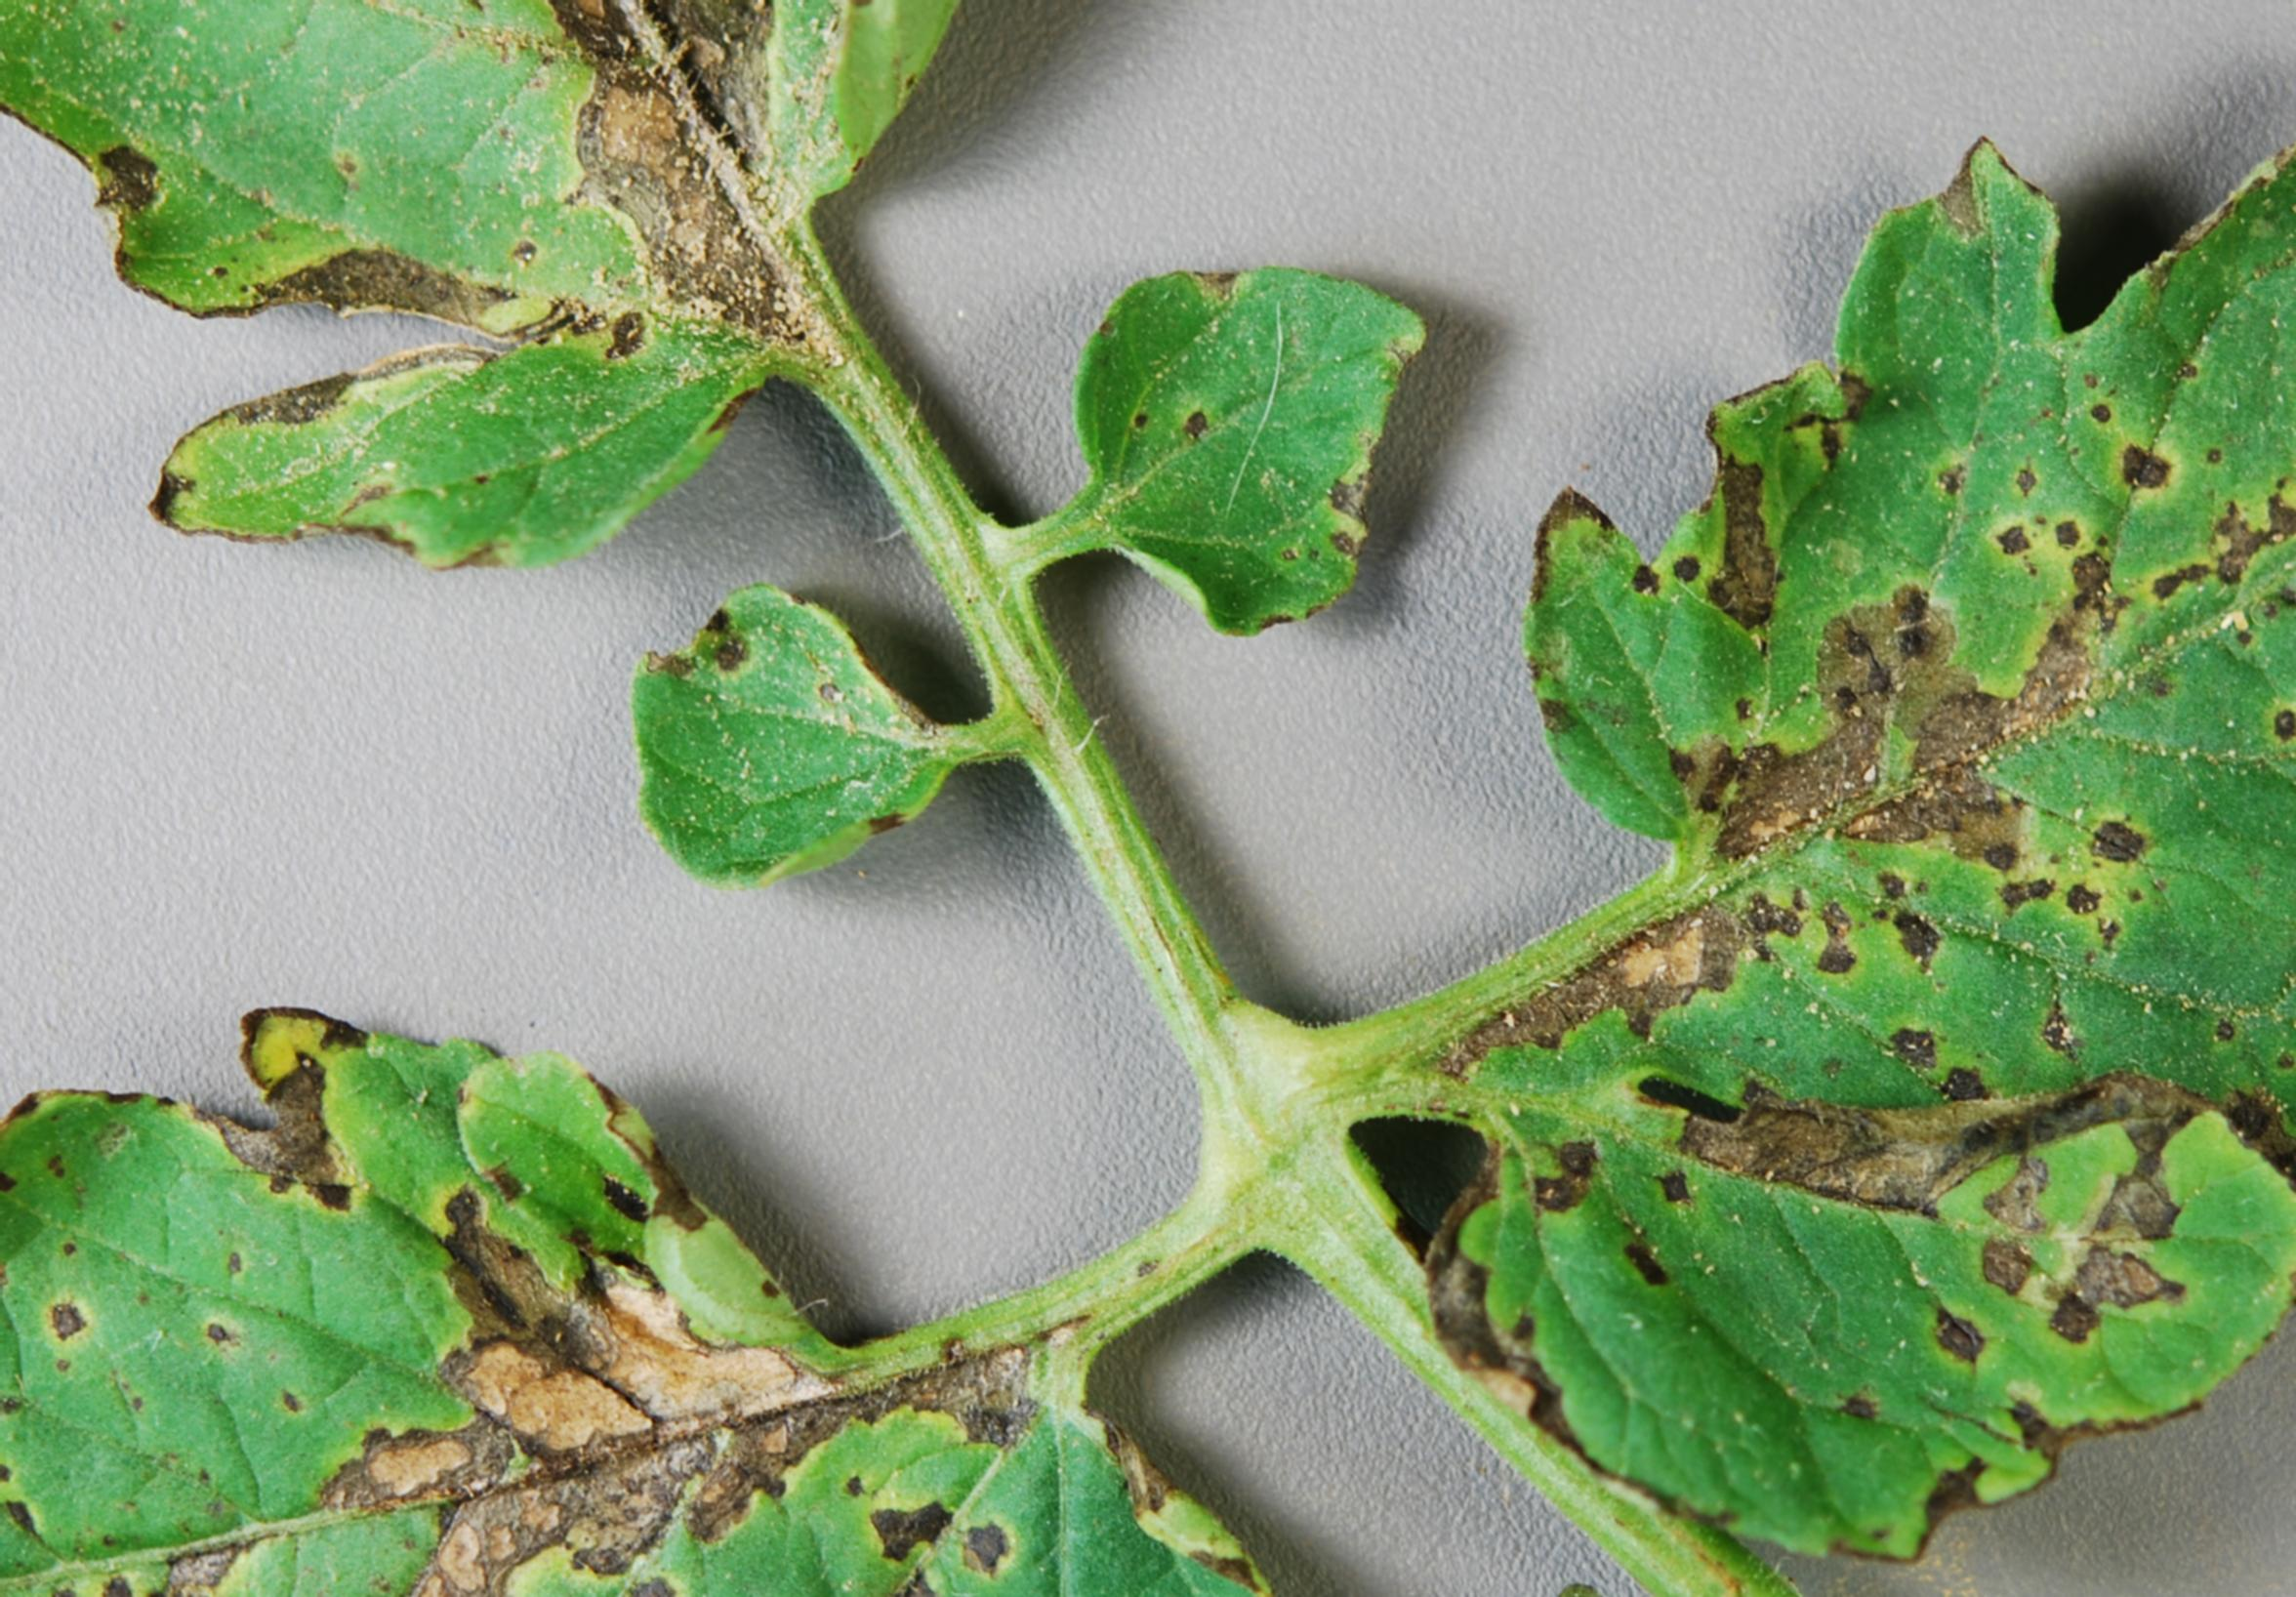Tomato Septoria leaf spot: (1411, 0, 2296, 1269), (0, 0, 1129, 817), (0, 949, 1349, 1597), (1406, 995, 2296, 1566), (1007, 192, 1546, 630)
